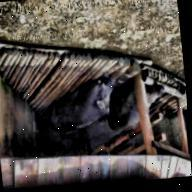boar: (37, 57, 126, 141), (108, 60, 181, 134)
